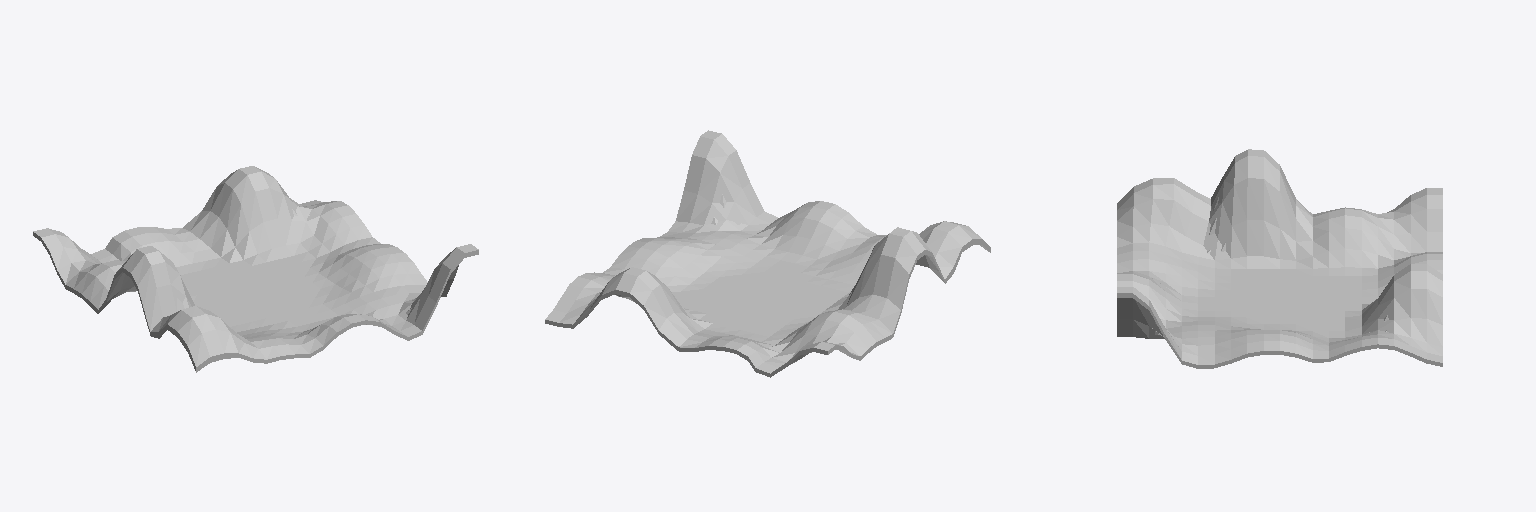
Rendered from Planet1Ground.obj.
3 views of the same model, side by side, from view 1: azimuth 30°, elevation 25°; view 2: azimuth 150°, elevation 25°; view 3: azimuth 270°, elevation 25° (orthographic).
Visible parts, largest first — view 1: pCube1; view 2: pCube1; view 3: pCube1.
Part boxes in pixels (bbox=[...]): pCube1: bbox=[33, 166, 478, 372]; pCube1: bbox=[545, 130, 990, 377]; pCube1: bbox=[1117, 149, 1442, 368].
Size of the model in its own units: 63.82 by 19.26 by 63.82.